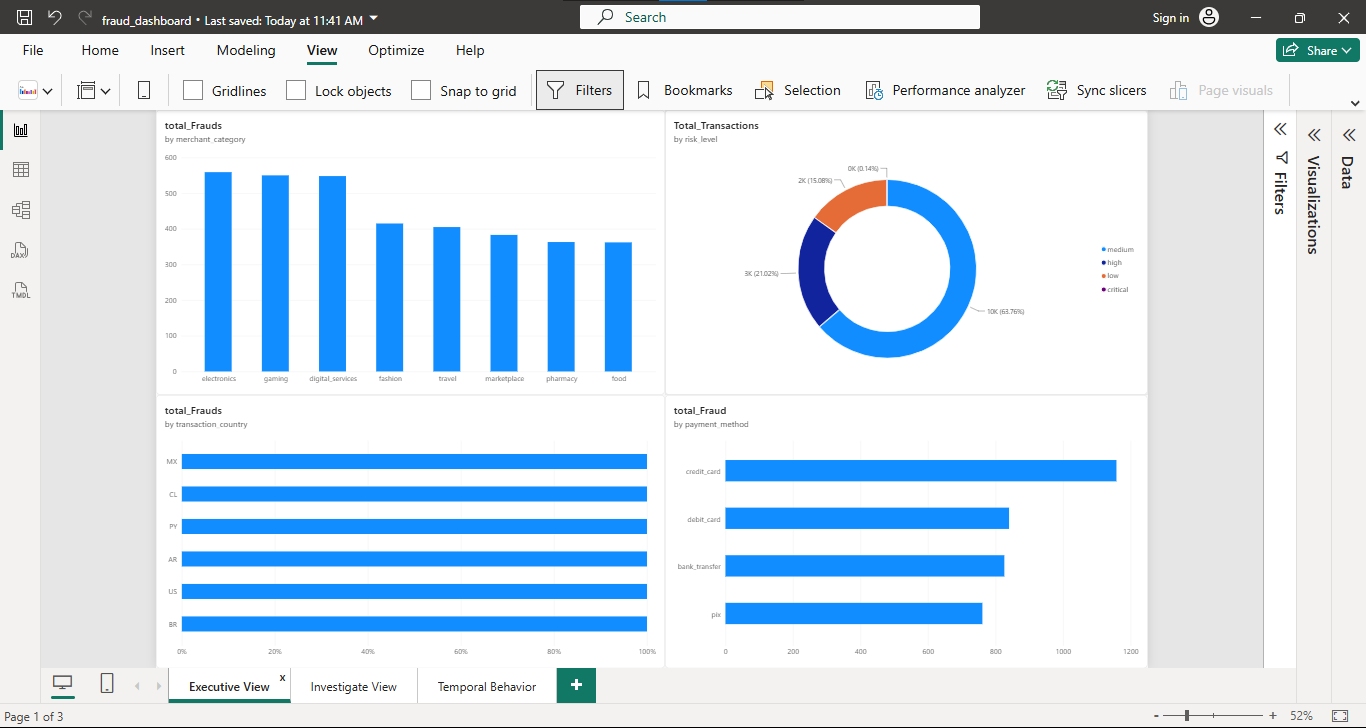

The dashboard page shown, as its layout file describes it:
{"tool":"powerbi","page":{"name":"Executive View","canvas":[1920,1080],"ordinal":0},"visuals":[{"type":"clusteredColumnChart","fields":{"Category":["final_transactions_for_bi.merchant_category"],"Y":["final_transactions_for_bi.total_Fraudes"]},"box":[0,0,985.3,551],"z":0},{"type":"hundredPercentStackedBarChart","fields":{"Category":["final_transactions_for_bi.transaction_country"],"Y":["final_transactions_for_bi.total_Fraudes"]},"box":[0,551,985.3,529.1],"z":1},{"type":"donutChart","fields":{"Category":["final_transactions_for_bi.risk_level"],"Y":["final_transactions_for_bi.Total_Transacoes"]},"box":[985.3,0,934.2,551],"z":2},{"type":"barChart","fields":{"Category":["final_transactions_for_bi.payment_method"],"Y":["final_transactions_for_bi.total_Fraudes"]},"box":[985.3,551,934.2,529.1],"z":3}]}

Visuals, with their boxes on the page's 1920x1080 design canvas (x1, y1, x2, y2). These are canvas units, not pixel positions in the 1366x728 screenshot, which may show the page scaled, cropped or inside an application window:
clusteredColumnChart - final_transactions_for_bi.merchant_category x final_transactions_for_bi.total_Fraudes: crop(0, 0, 985, 551)
hundredPercentStackedBarChart - final_transactions_for_bi.transaction_country x final_transactions_for_bi.total_Fraudes: crop(0, 551, 985, 1080)
donutChart - final_transactions_for_bi.risk_level x final_transactions_for_bi.Total_Transacoes: crop(985, 0, 1920, 551)
barChart - final_transactions_for_bi.payment_method x final_transactions_for_bi.total_Fraudes: crop(985, 551, 1920, 1080)
